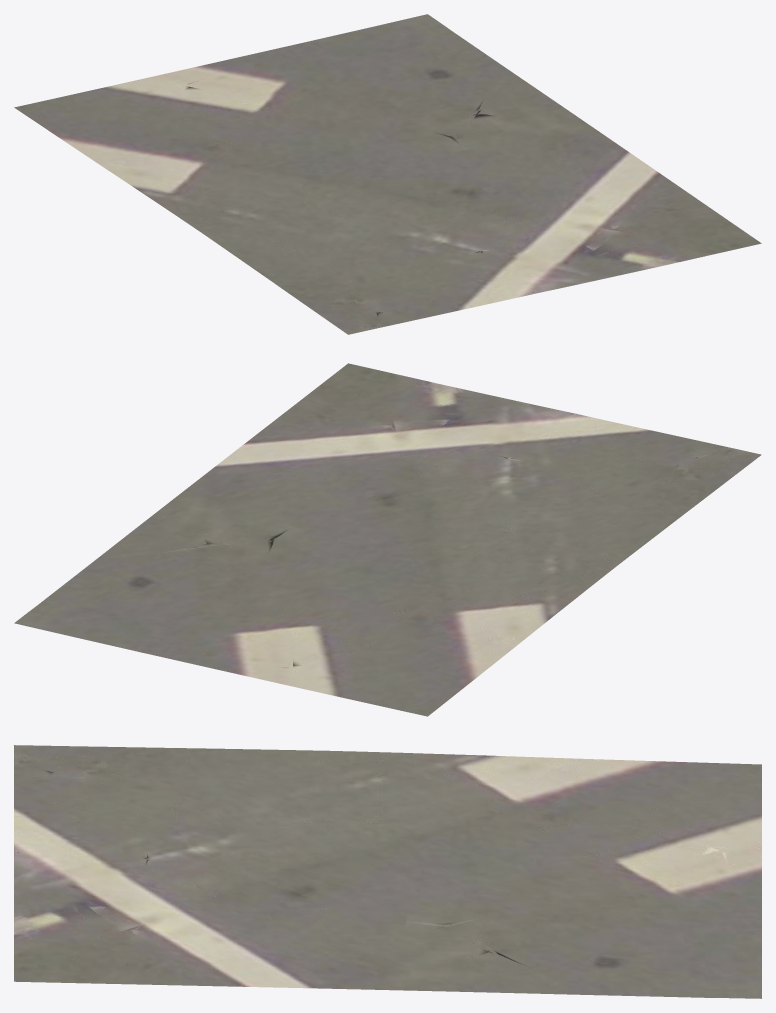
3 views of the same model, one above another, from view 1: azimuth 30°, elevation 25°; view 2: azimuth 150°, elevation 25°; view 3: azimuth 270°, elevation 25° (orthographic). The views are drawn at different scales.
Size of the model in its own units: 3.41 by 0.1959 by 4.78.
Materials: 1 (1 with a texture image).
